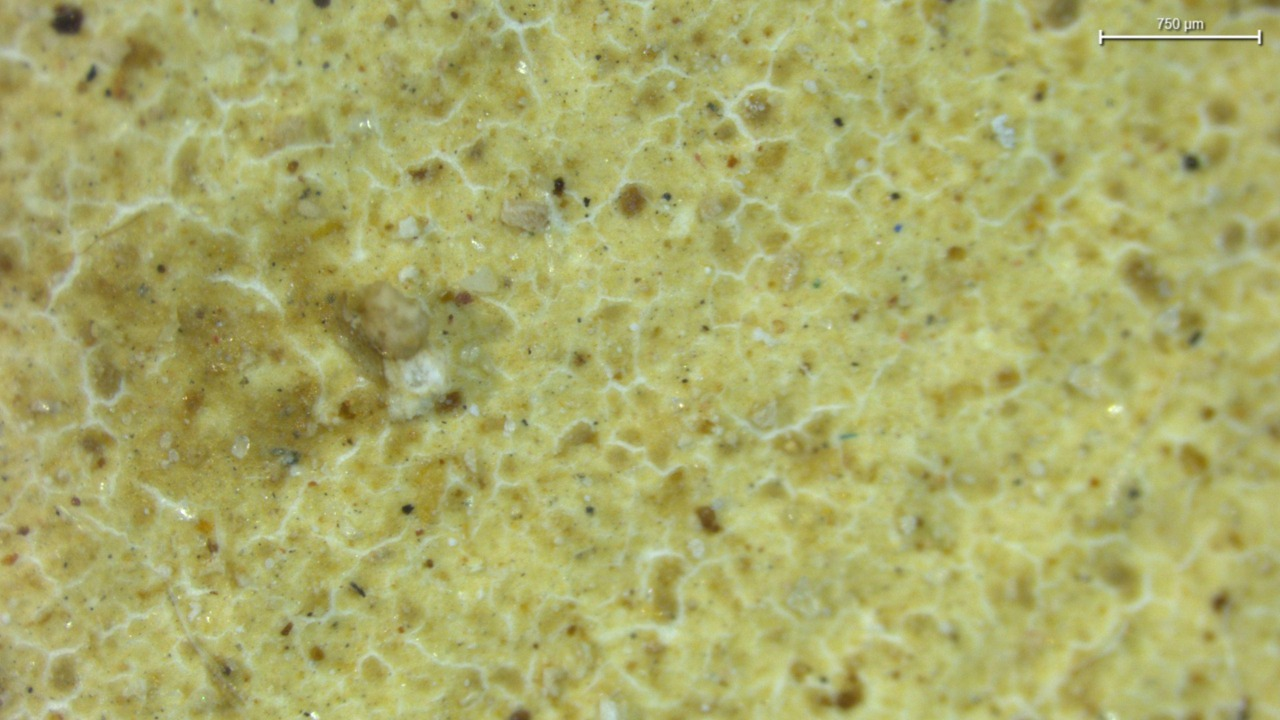microplastic_fragment: (384, 351, 448, 419)
